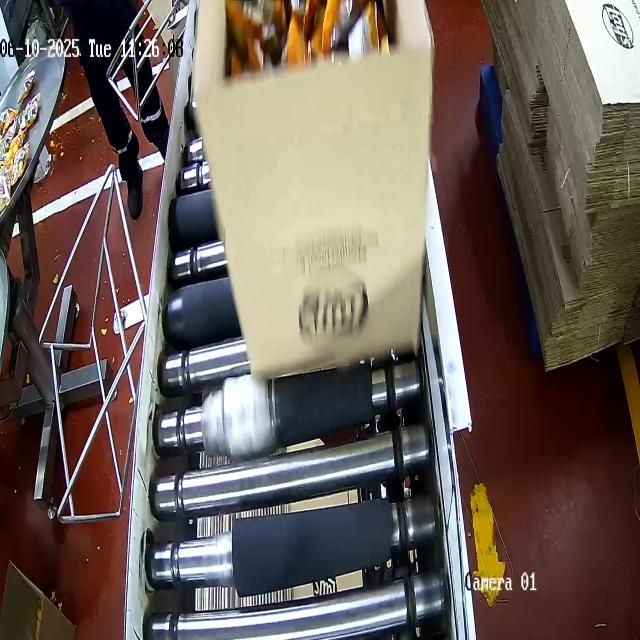FRENCH_CHEESE: (229, 0, 413, 81)
